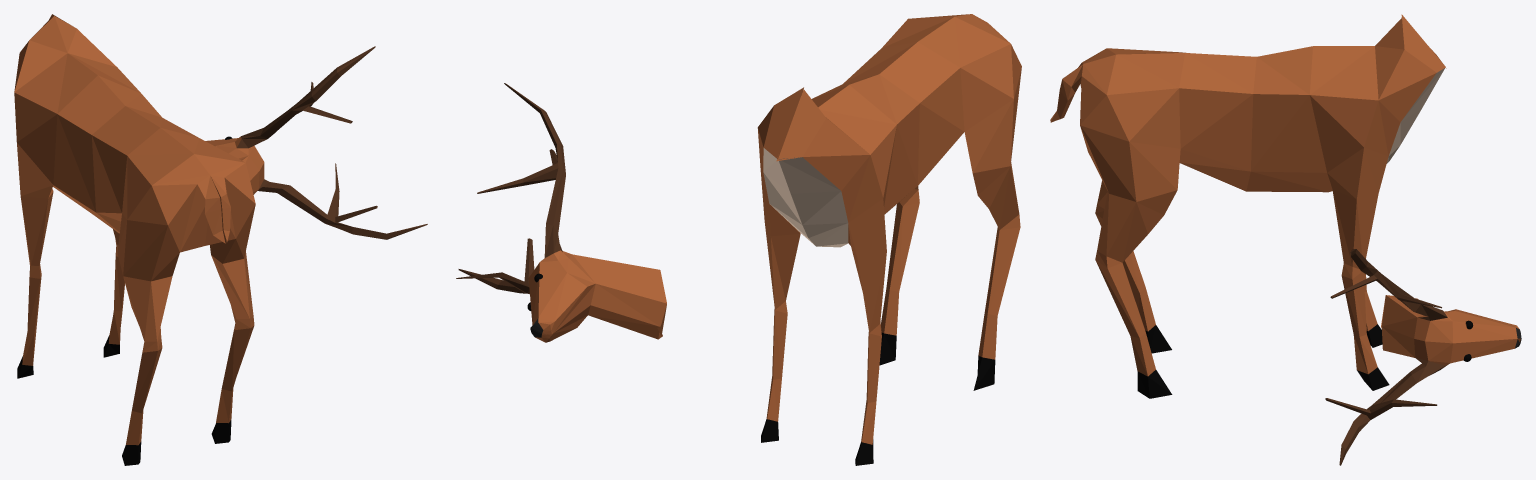
File: RenoDecapitado.fbx
The picture shows the model from 3 angles, left to right: view 1: azimuth 30°, elevation 25°; view 2: azimuth 150°, elevation 25°; view 3: azimuth 270°, elevation 25°; orthographic projection. The views are drawn at different scales.
Visible parts, largest first — view 1: eyes; view 2: eyes; view 3: eyes.
Boxes of the visible parts, <box> form: eyes: <box>14,14,427,465</box>; eyes: <box>456,14,1021,465</box>; eyes: <box>1050,14,1521,465</box>.
Bounding box in the file's own units: 53.33 × 44.03 × 52.61.
